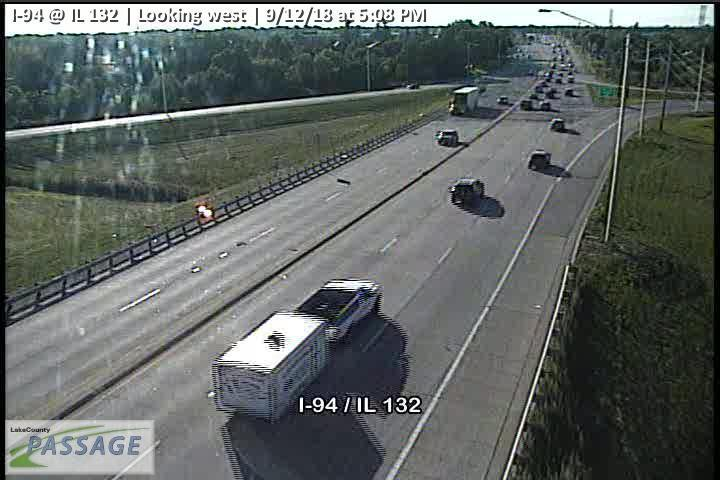SUV: (449, 178, 484, 205), (527, 151, 551, 170), (437, 129, 458, 147), (548, 118, 564, 131)
Truck: (211, 277, 381, 424), (448, 87, 480, 116)
